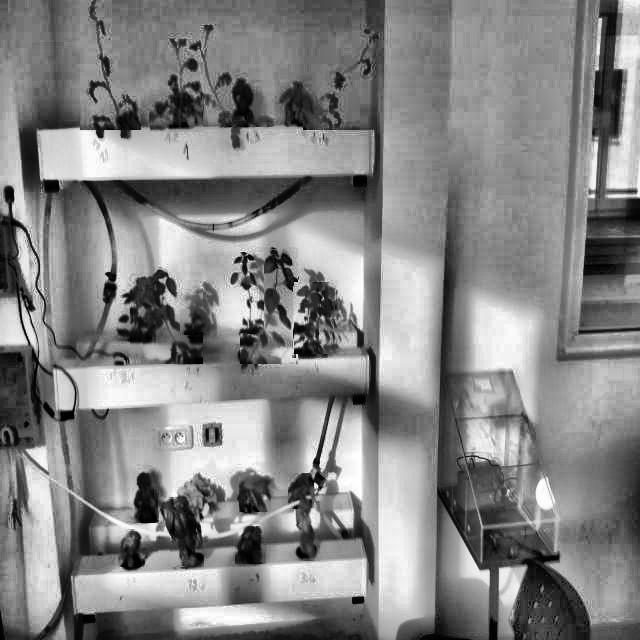plants: (80, 2, 141, 130), (303, 30, 378, 130), (201, 25, 274, 127), (130, 266, 203, 364), (240, 247, 298, 364), (150, 39, 204, 132), (158, 497, 204, 567), (294, 282, 337, 354), (232, 252, 264, 333), (118, 284, 154, 341), (294, 501, 320, 561), (132, 467, 159, 523), (239, 472, 271, 512), (235, 526, 266, 564), (118, 529, 145, 567), (288, 473, 314, 509), (180, 309, 210, 335)
